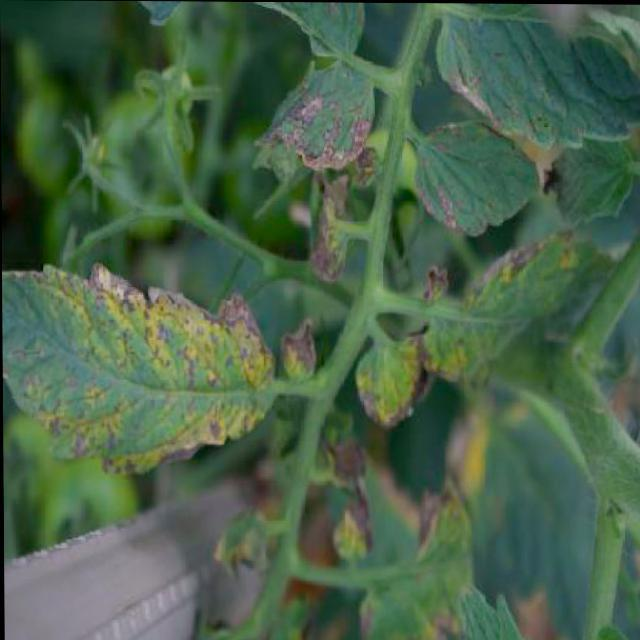Tomato Septoria spot leaf: (9, 232, 275, 483), (392, 238, 620, 382), (330, 338, 452, 444)
